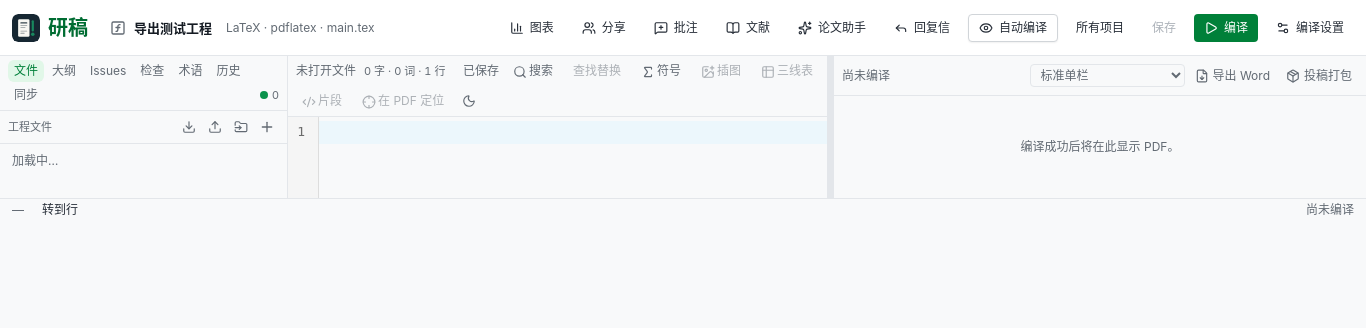
LatexWorkbench 统一 Word 导出入口 › blocked：显示阻断状态与原因，无 docx 链接
Click the button with test id "latex-export-word" at x=1232, y=76, box left=1188, top=64, right=1276, bottom=86
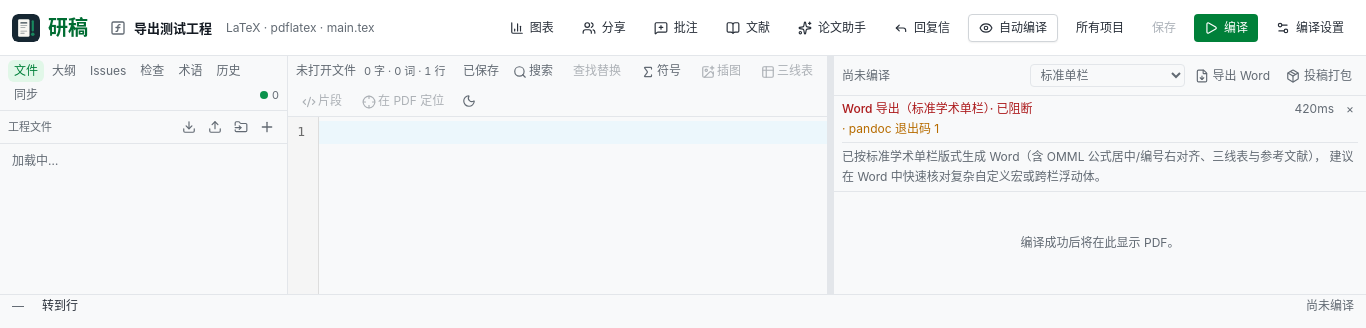
Now the element with test id "latex-word-result" shows "已阻断", box left=997, top=101, right=1033, bottom=116
Now the element with test id "latex-word-result" shows "pandoc 退出码 1", box left=849, top=121, right=939, bottom=136
